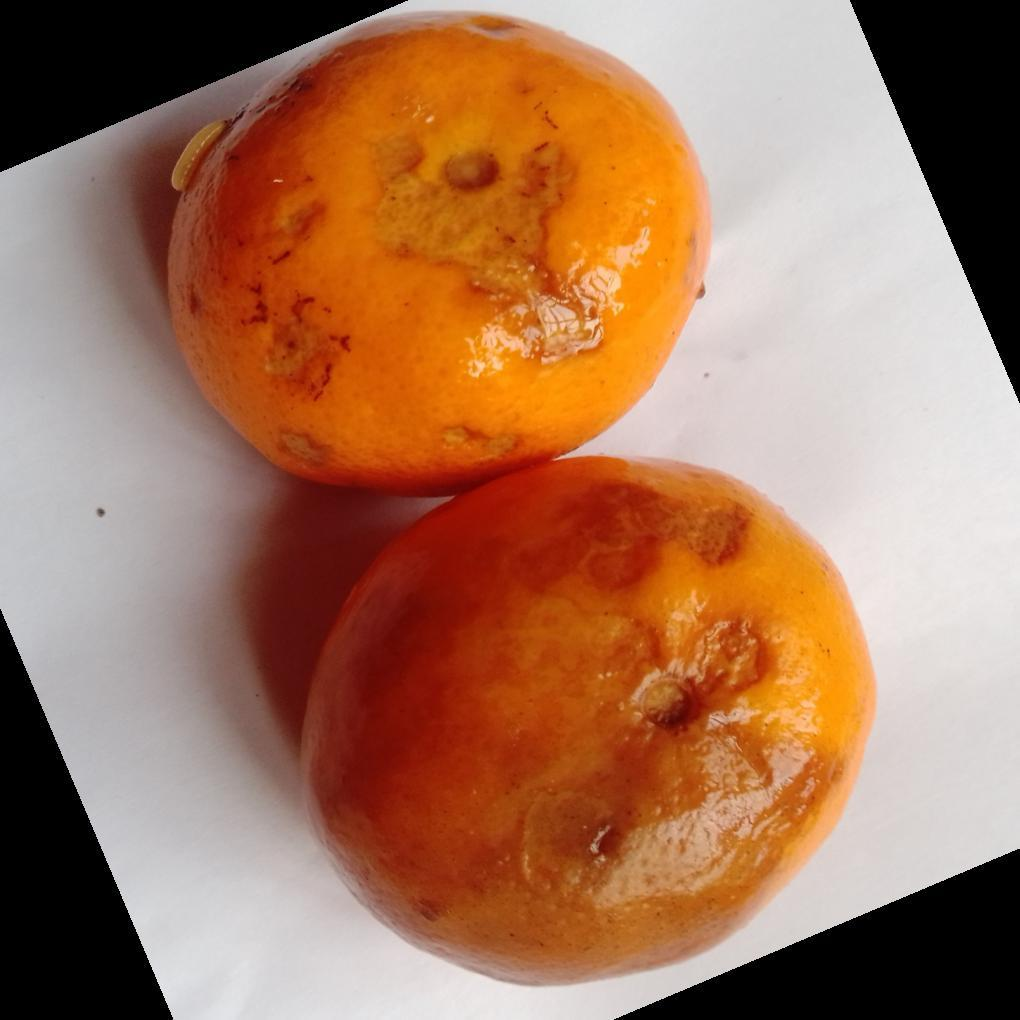FreshOrange: (163, 13, 879, 991)
